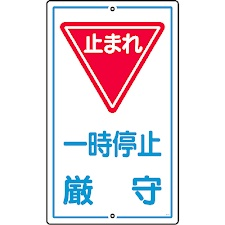Regulatory_sign_triangle: (60, 17, 164, 118)
